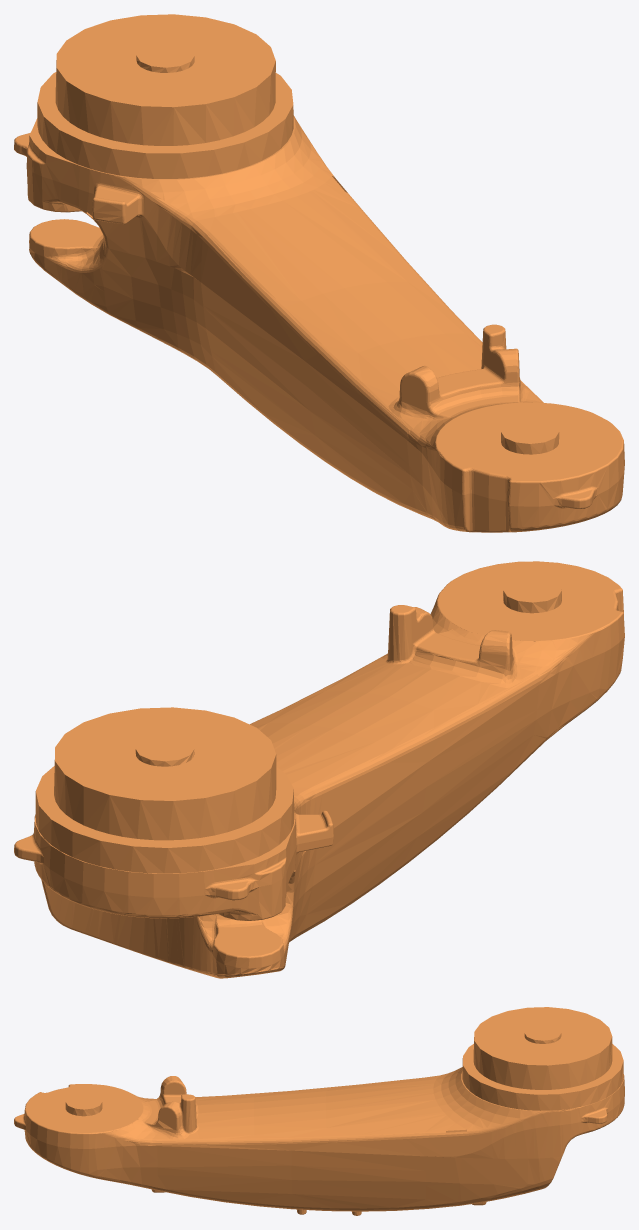
3 views of the same model, one above another, from view 1: azimuth 30°, elevation 25°; view 2: azimuth 150°, elevation 25°; view 3: azimuth 270°, elevation 25° (orthographic). The views are drawn at different scales.
Parts seen in each view (by area): view 1: /SketchUp/instance_0/ID4_004-mesh/0, /SketchUp/instance_0_002/ID18_003-mesh/0, /SketchUp/instance_0_003/ID24_003-mesh/0, /SketchUp/instance_0_001/ID12_003-mesh/0; view 2: /SketchUp/instance_0/ID4_004-mesh/0, /SketchUp/instance_0_002/ID18_003-mesh/0, /SketchUp/instance_0_003/ID24_003-mesh/0, /SketchUp/instance_0_001/ID12_003-mesh/0; view 3: /SketchUp/instance_0/ID4_004-mesh/0, /SketchUp/instance_0_002/ID18_003-mesh/0, /SketchUp/instance_0_003/ID24_003-mesh/0, /SketchUp/instance_0_001/ID12_003-mesh/0.
Part boxes in pixels (x1,y1,x2,y2): /SketchUp/instance_0/ID4_004-mesh/0: (14,115,624,532); /SketchUp/instance_0_002/ID18_003-mesh/0: (37,14,293,178); /SketchUp/instance_0_003/ID24_003-mesh/0: (501,419,559,454); /SketchUp/instance_0_001/ID12_003-mesh/0: (136,43,194,72); /SketchUp/instance_0/ID4_004-mesh/0: (14,561,624,978); /SketchUp/instance_0_002/ID18_003-mesh/0: (35,707,294,873); /SketchUp/instance_0_003/ID24_003-mesh/0: (503,577,561,613); /SketchUp/instance_0_001/ID12_003-mesh/0: (135,736,194,766); /SketchUp/instance_0/ID4_004-mesh/0: (14,1067,624,1215); /SketchUp/instance_0_002/ID18_003-mesh/0: (462,1007,623,1110); /SketchUp/instance_0_003/ID24_003-mesh/0: (65,1094,102,1116); /SketchUp/instance_0_001/ID12_003-mesh/0: (524,1025,561,1043).
Size of the model in its own units: 0.4771 by 0.492 by 1.66.
